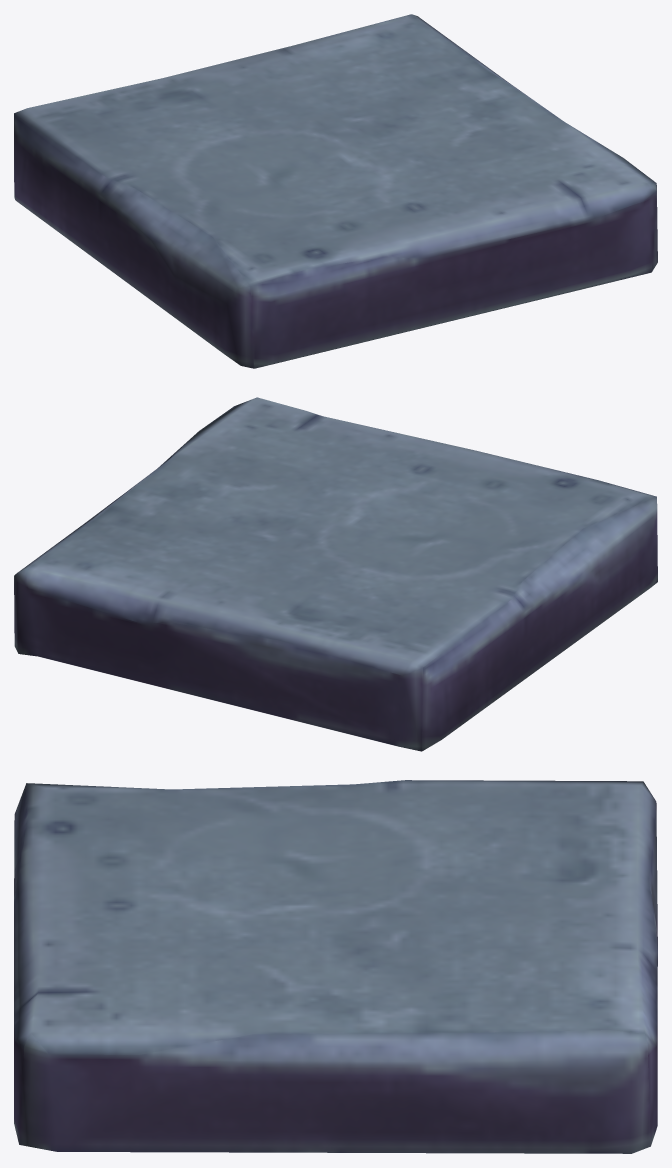
The model's file is Tile2.FBX.
3 renders of one model, top to bottom at view 1: azimuth 30°, elevation 25°; view 2: azimuth 150°, elevation 25°; view 3: azimuth 270°, elevation 25°, orthographic. The views are drawn at different scales.
Visible parts, largest first — view 1: Tile2_01; view 2: Tile2_01; view 3: Tile2_01.
Part boxes in pixels (box(x1,y1,x2,y2)): Tile2_01: box(14, 14, 657, 368); Tile2_01: box(14, 397, 657, 751); Tile2_01: box(14, 780, 657, 1153).
Bounding box in the file's own units: 2 × 0.3927 × 2.
1 material, 1 textured.
